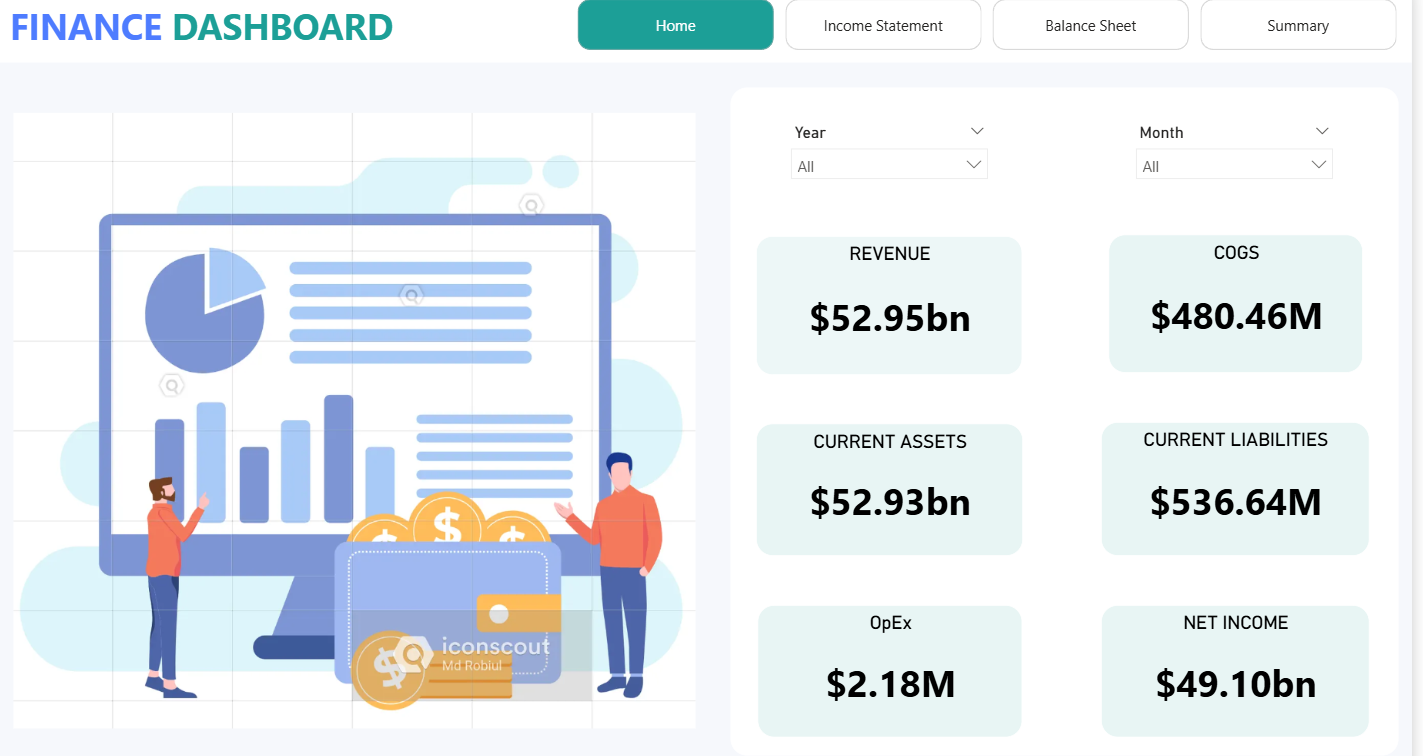

Layout of this report page (visuals, bound fields, positions):
{"tool":"powerbi","page":{"name":"Home","canvas":[1280,720],"ordinal":0},"visuals":[{"type":"shape","box":[666,88,602,602],"z":0},{"type":"card","title":"CURRENT ASSETS","fields":{"Values":["DAX Measures.Current Assets"]},"box":[689.6,390.2,240.3,119.5],"z":1000},{"type":"card","title":"CURRENT LIABILITIES","fields":{"Values":["DAX Measures.Current Liabilities"]},"box":[1000.3,389.3,241.7,120.9],"z":2000},{"type":"card","title":"OpEx","fields":{"Values":["DAX Measures.OpEX"]},"box":[690.2,553.8,239,119.5],"z":3000},{"type":"card","title":"NET INCOME","fields":{"Values":["DAX Measures.Net Income"]},"box":[1000.3,553.8,241.7,119.5],"z":4000},{"type":"card","title":"REVENUE","fields":{"Values":["DAX Measures.Total Revenues"]},"box":[689.7,221.1,240,125],"z":5000},{"type":"card","title":"COGS","fields":{"Values":["DAX Measures.Total COGS"]},"box":[1006.5,220.7,229.4,125],"z":6000},{"type":"slicer","fields":{"Values":["DimDate.Year"]},"box":[711,115,197,71],"z":7000},{"type":"slicer","fields":{"Values":["DimDate.MonthName"]},"box":[1022,115,197,71],"z":8000},{"type":"actionButton","box":[745.1,21.5,169.6,38.2],"z":9000},{"type":"actionButton","box":[934.9,21.5,157.6,38.2],"z":10000},{"type":"actionButton","box":[1109.3,21.5,140.9,38.2],"z":11000},{"type":"shape","box":[0,0,1280,65],"z":12000},{"type":"pageNavigator","box":[528,8,740,46],"z":13000},{"type":"textbox","box":[12,5,368,55],"z":14000},{"type":"image","box":[15,106,625,565],"z":15000}]}

Visuals, with their boxes on the page's 1280x720 design canvas (x1, y1, x2, y2). These are canvas units, not pixel positions in the 1423x756 screenshot, which may show the page scaled, cropped or inside an application window:
shape: [x1=666, y1=88, x2=1268, y2=690]
"CURRENT ASSETS" card: [x1=690, y1=390, x2=930, y2=510]
"CURRENT LIABILITIES" card: [x1=1000, y1=389, x2=1242, y2=510]
"OpEx" card: [x1=690, y1=554, x2=929, y2=673]
"NET INCOME" card: [x1=1000, y1=554, x2=1242, y2=673]
"REVENUE" card: [x1=690, y1=221, x2=930, y2=346]
"COGS" card: [x1=1006, y1=221, x2=1236, y2=346]
slicer - DimDate.Year: [x1=711, y1=115, x2=908, y2=186]
slicer - DimDate.MonthName: [x1=1022, y1=115, x2=1219, y2=186]
actionButton: [x1=745, y1=22, x2=915, y2=60]
actionButton: [x1=935, y1=22, x2=1092, y2=60]
actionButton: [x1=1109, y1=22, x2=1250, y2=60]
shape: [x1=0, y1=0, x2=1280, y2=65]
pageNavigator: [x1=528, y1=8, x2=1268, y2=54]
textbox: [x1=12, y1=5, x2=380, y2=60]
image: [x1=15, y1=106, x2=640, y2=671]
